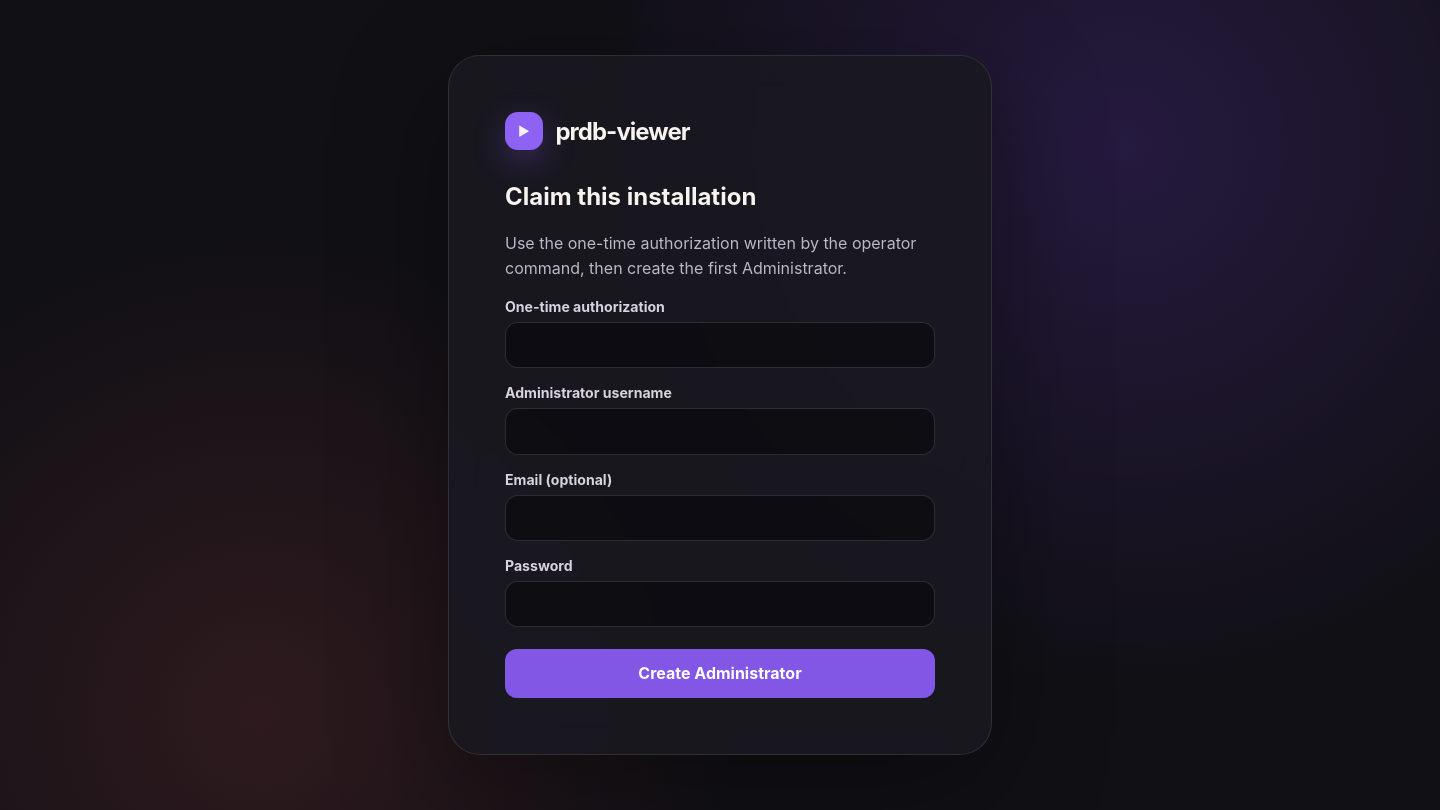
Test: App › guides an unclaimed installation to create its first Administrator
Check: the heading "Claim this installation" is shown, box top-left (505, 182), bottom-right (756, 211)
Type "authorization" into the field labelled "One-time authorization". click: (720, 345)
box: top-left (505, 322), bottom-right (935, 368)
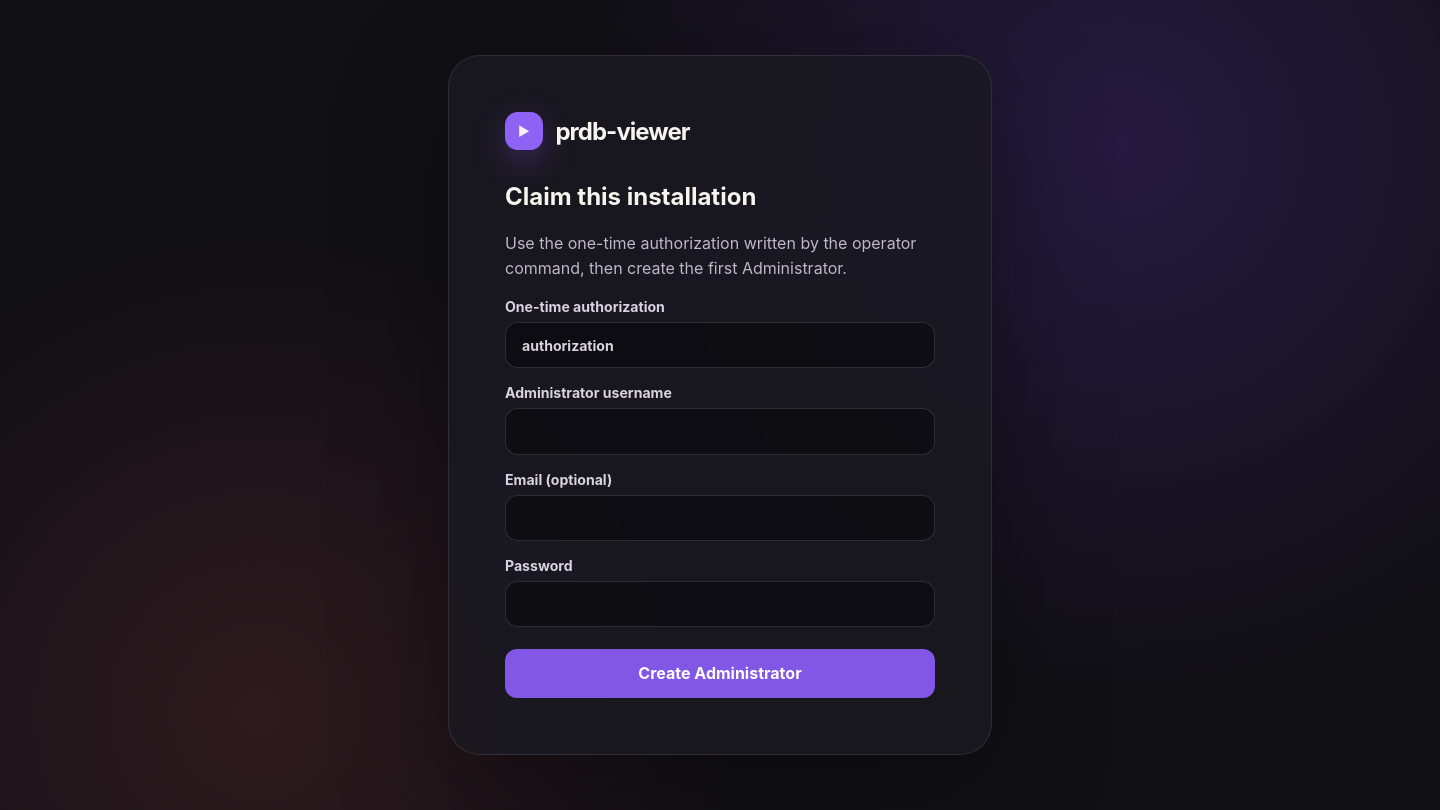
Type "administrator" into the field labelled "Administrator username". click: (720, 432)
box: top-left (505, 408), bottom-right (935, 455)
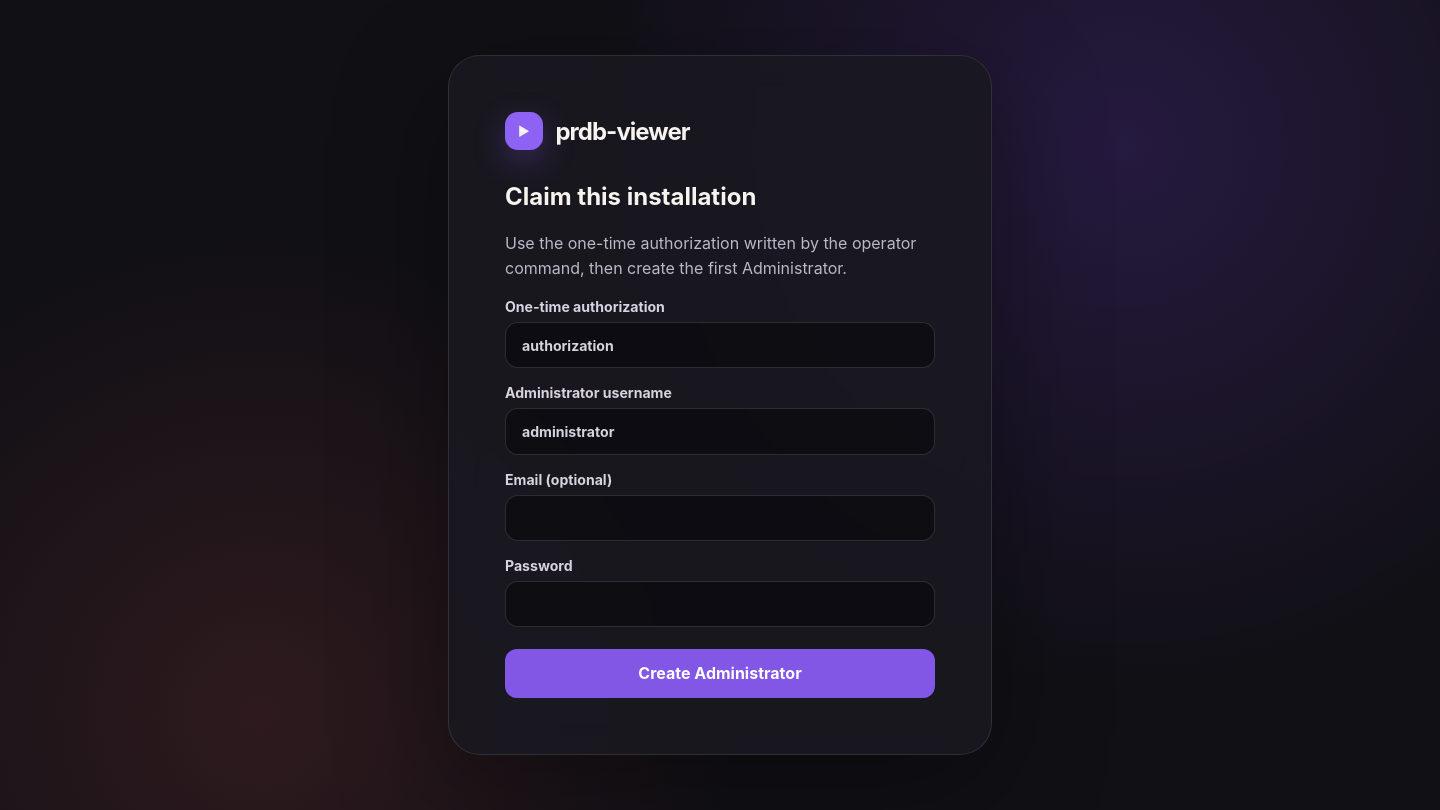
Type "administrator password" into the password field labelled "Password". click: (720, 604)
box: top-left (505, 581), bottom-right (935, 627)
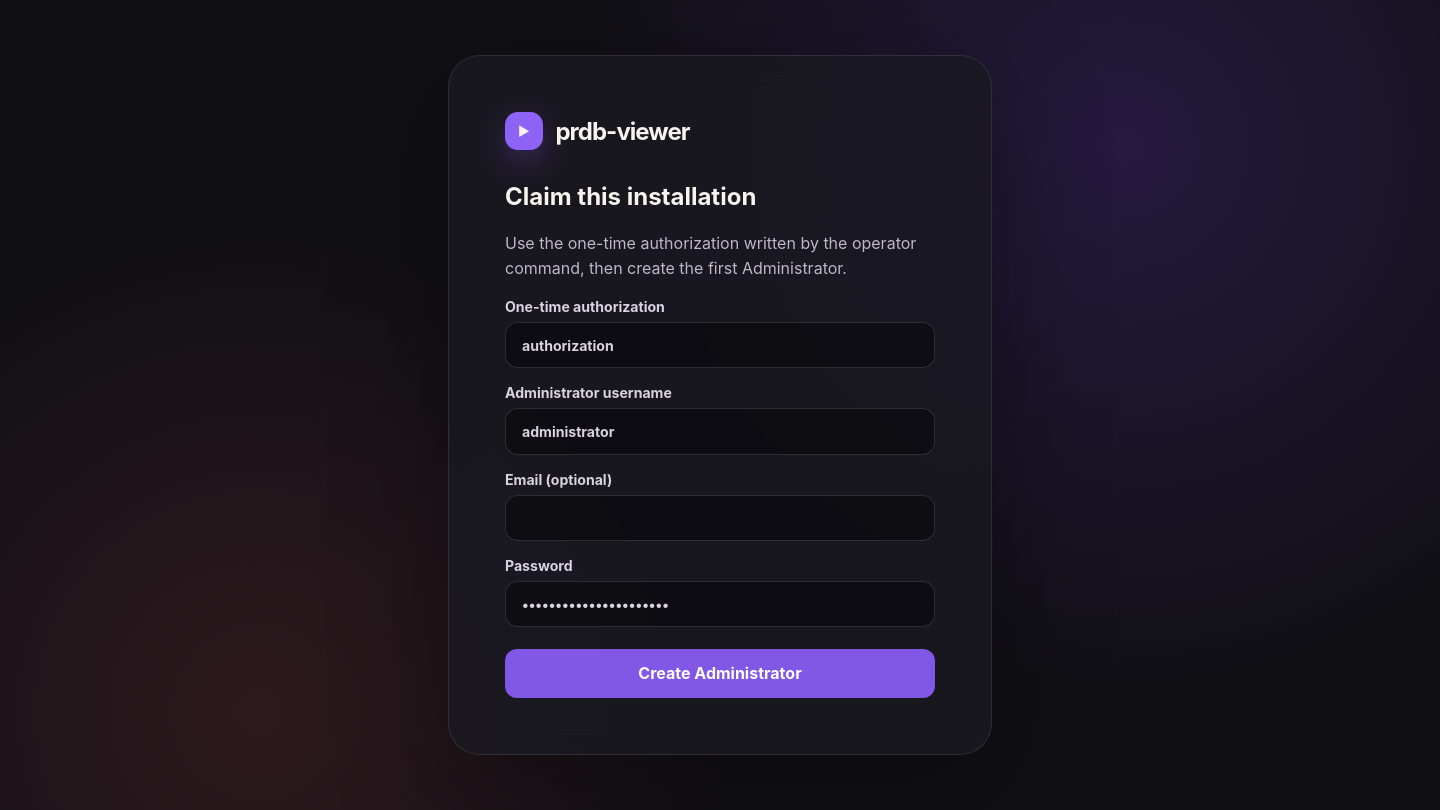
Click the button "Create Administrator". click: (720, 673)
box: top-left (505, 649), bottom-right (935, 698)
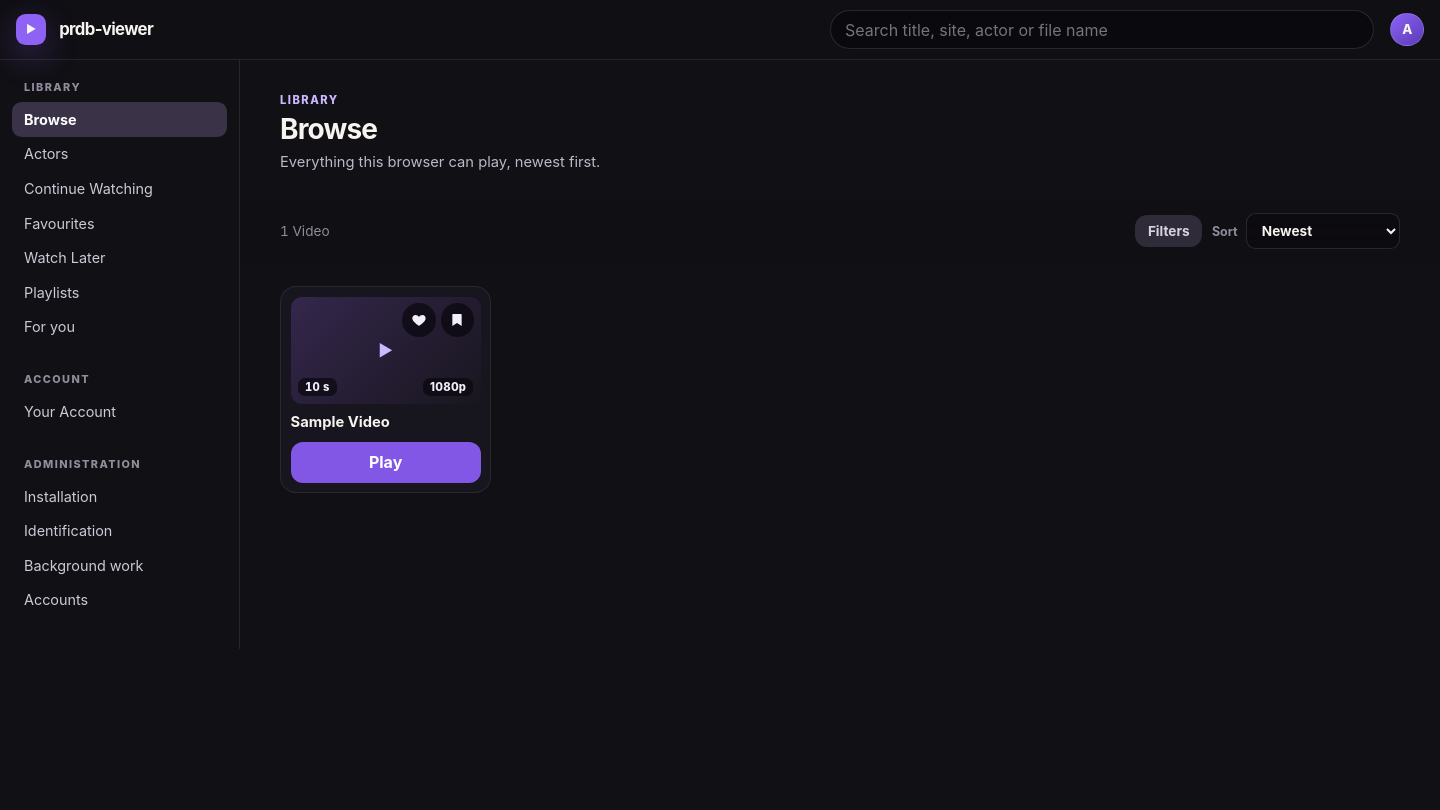
Check: the heading "Browse" is shown, box top-left (280, 112), bottom-right (377, 146)
Check: the text "Sample Video" is shown, box top-left (291, 413), bottom-right (390, 431)
Click the link "Installation". click: (61, 496)
box: top-left (24, 488), bottom-right (97, 504)
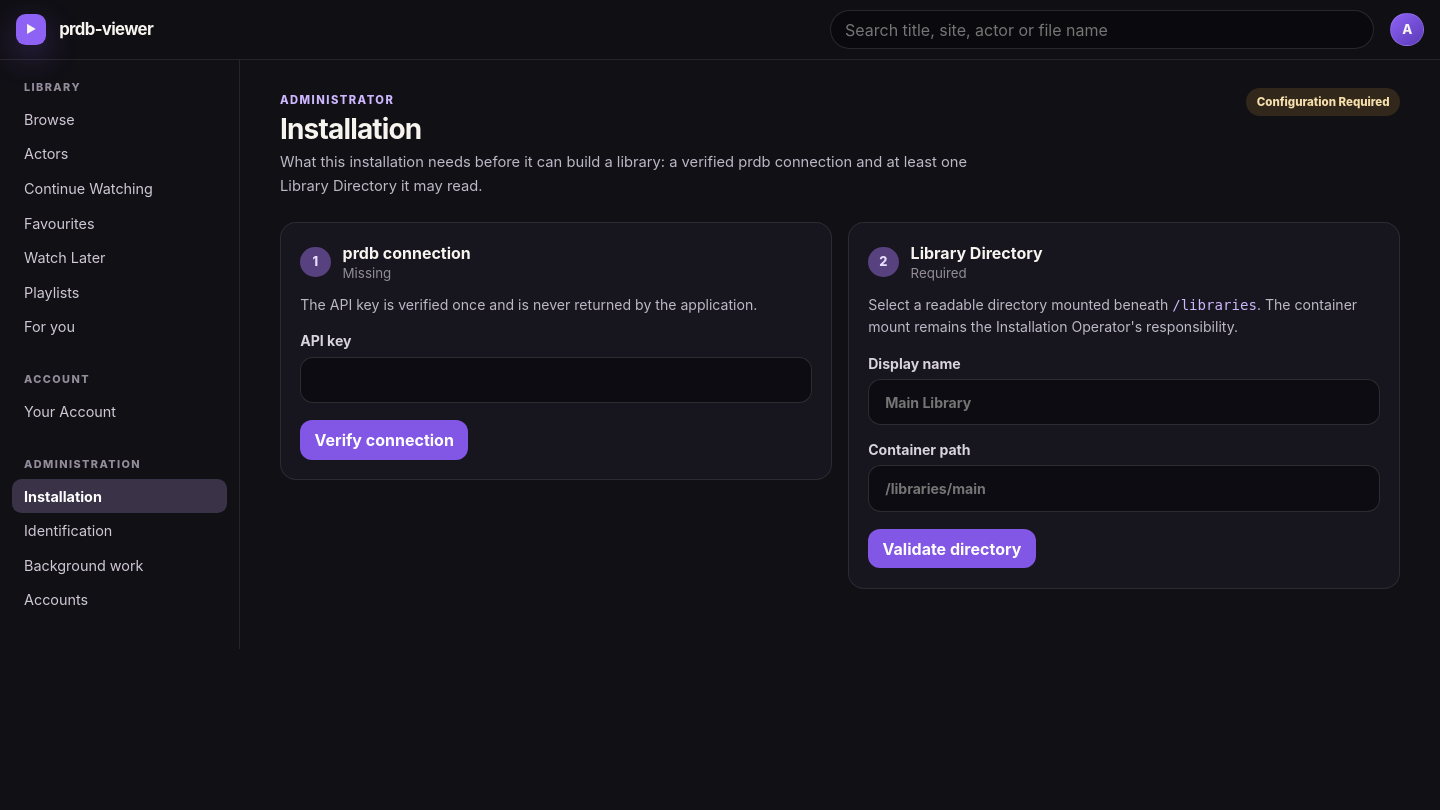
Check: the heading "Installation" is shown, box top-left (280, 112), bottom-right (421, 146)
Check: the link "Sample Video" is gone
